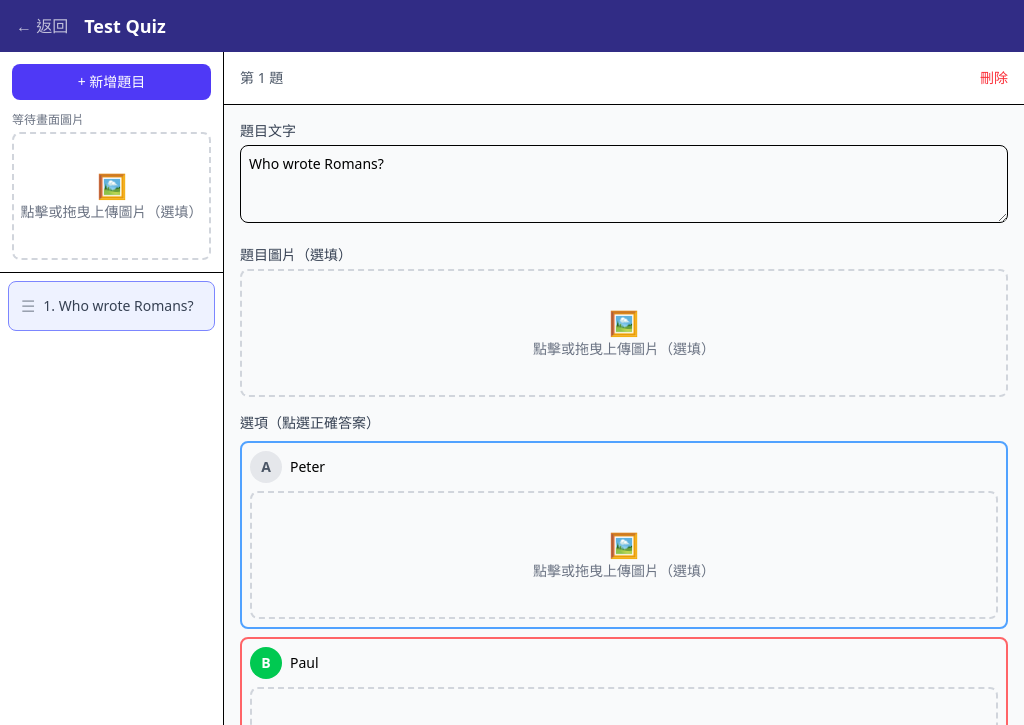
Test case: DesignPage › shows editor and pending sidebar item immediately when 新增題目 is clicked
The width and height of the screenshot is (1024, 725).
Expected: the heading "Test Quiz" is shown, [84,14,166,38]
Click the button labelled "+ 新增題目". click: (112, 82)
box: [12,64,211,100]
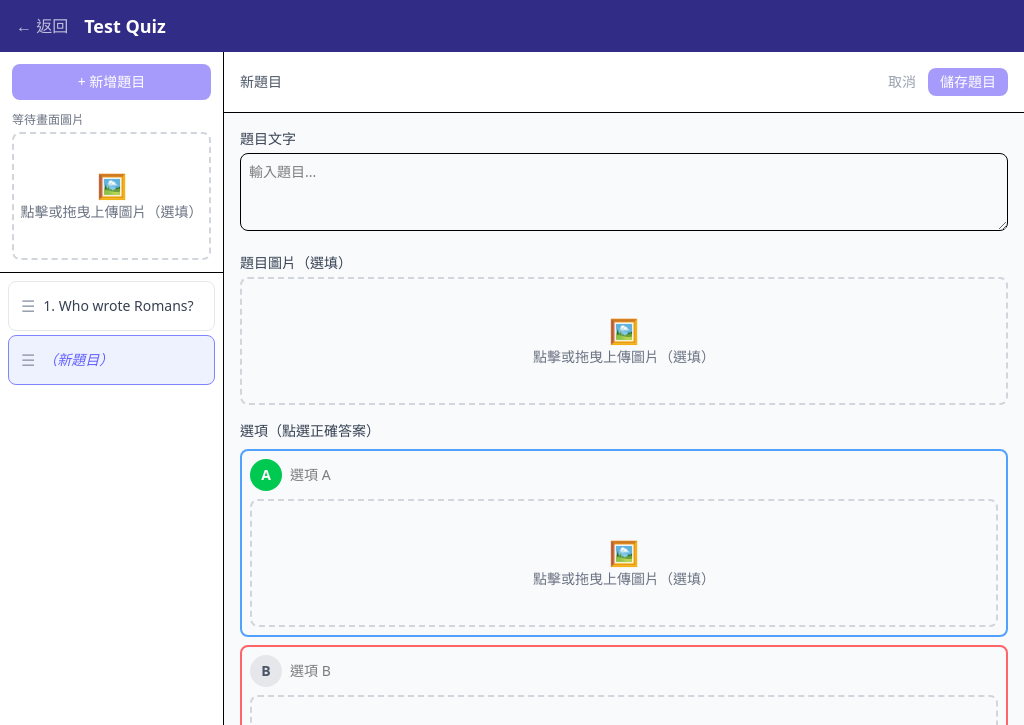
Expected: the text box named "題目文字" is shown, [240,153,1008,231]
Expected: the text "（新題目）" is shown, [43,350,113,369]
Expected: the button "儲存題目" is shown, [928,68,1008,96]
